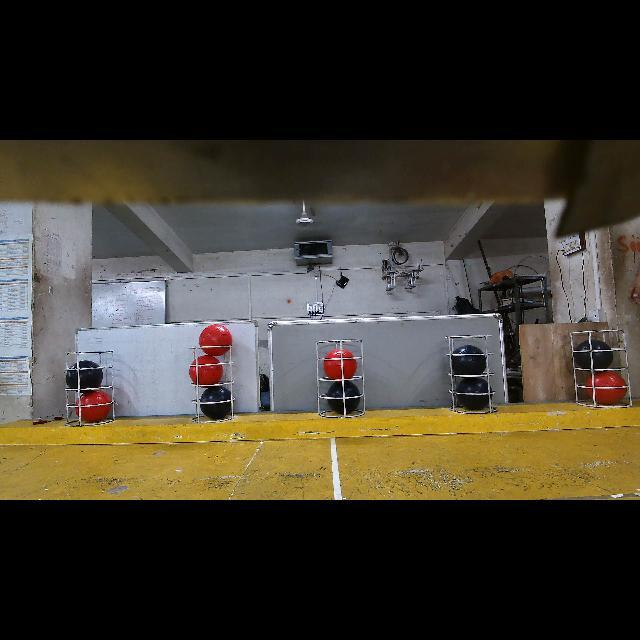P: (458, 376, 495, 411), (65, 360, 102, 392), (328, 381, 361, 415), (574, 340, 613, 368), (200, 386, 231, 420), (451, 345, 485, 375)
R: (587, 370, 627, 405), (75, 390, 111, 422), (199, 324, 232, 356), (324, 349, 358, 380), (190, 355, 222, 385)
S: (568, 330, 636, 408), (444, 334, 500, 416), (312, 338, 368, 419), (184, 346, 242, 424), (64, 348, 118, 428)
